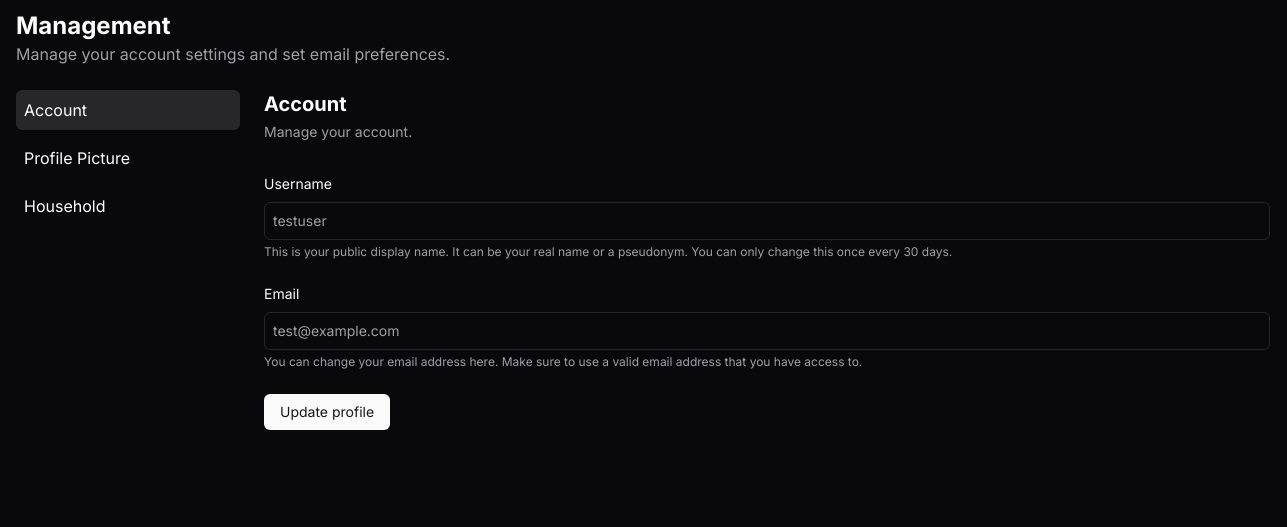
Test: Management Page Tests › should switch to Profile Picture tab and show avatars
Click the list item "Profile Picture" at coordinates (77, 158), box [24,148,130,168]
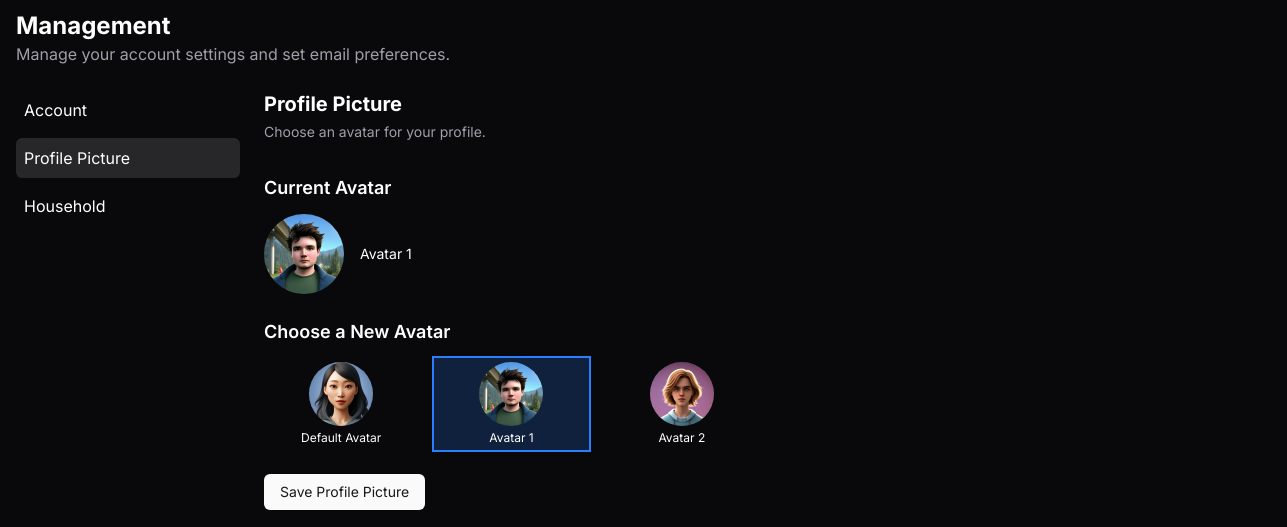
Now the text "Avatar 1" below "Current Avatar" is shown, box [360,245,412,262]
Now the text "Avatar 2" is shown, box [658,430,705,445]
